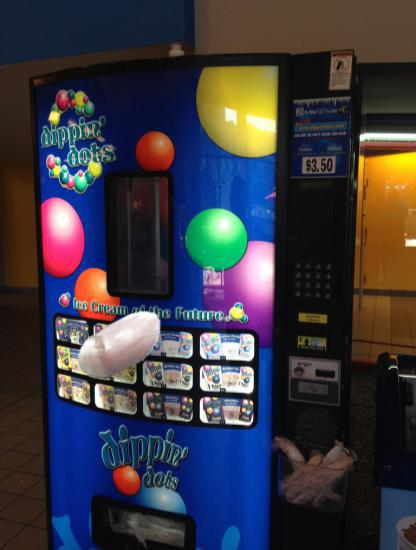Hazelnut: (73, 297, 170, 394)
